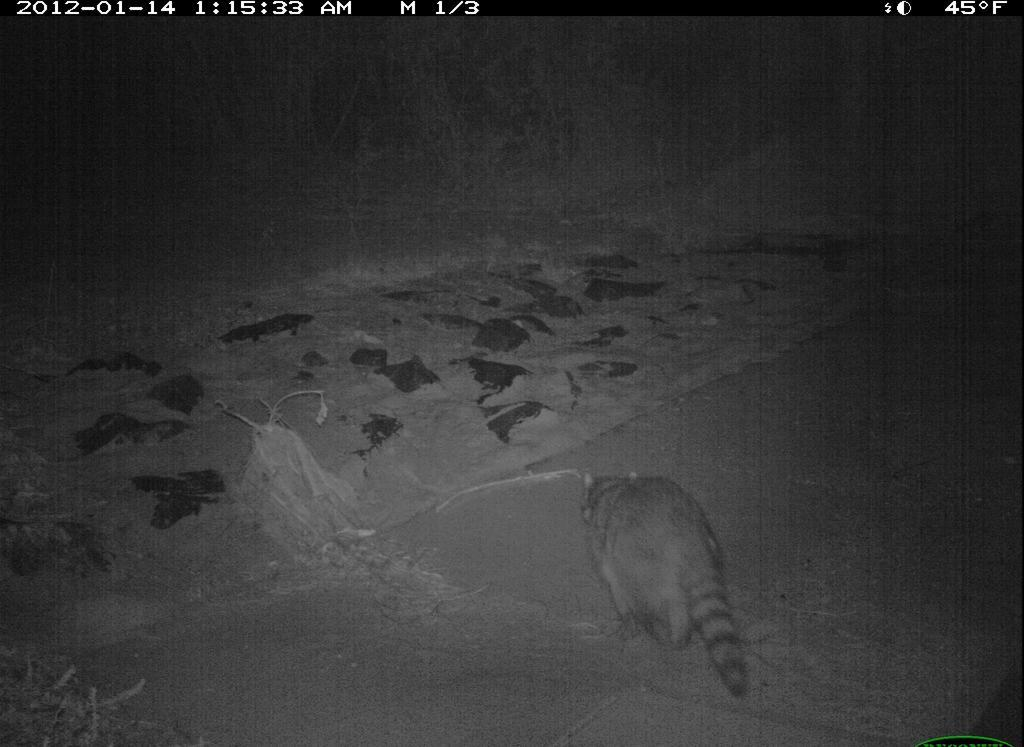raccoon: (578, 454, 757, 707)
